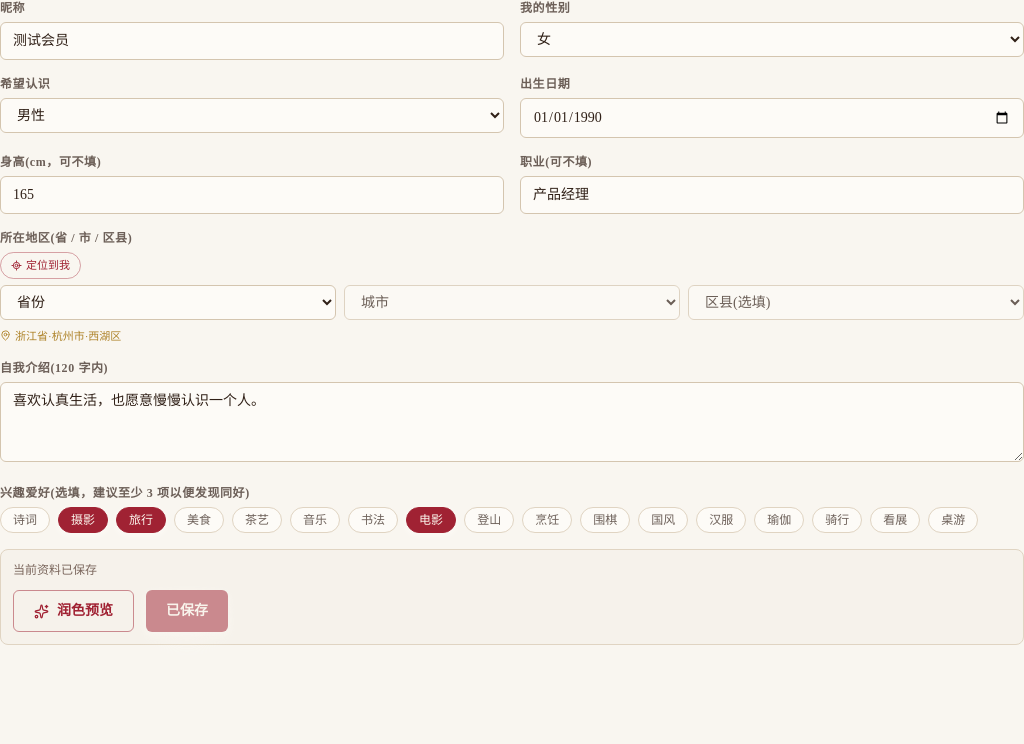
Test case: EditForm 草稿可靠性 › 润色先给预览，不直接覆盖原文；用户采用后才进入草稿
This screenshot has width=1024, height=744.
Click the button "润色预览" at (74, 611), box [13,590,134,632]
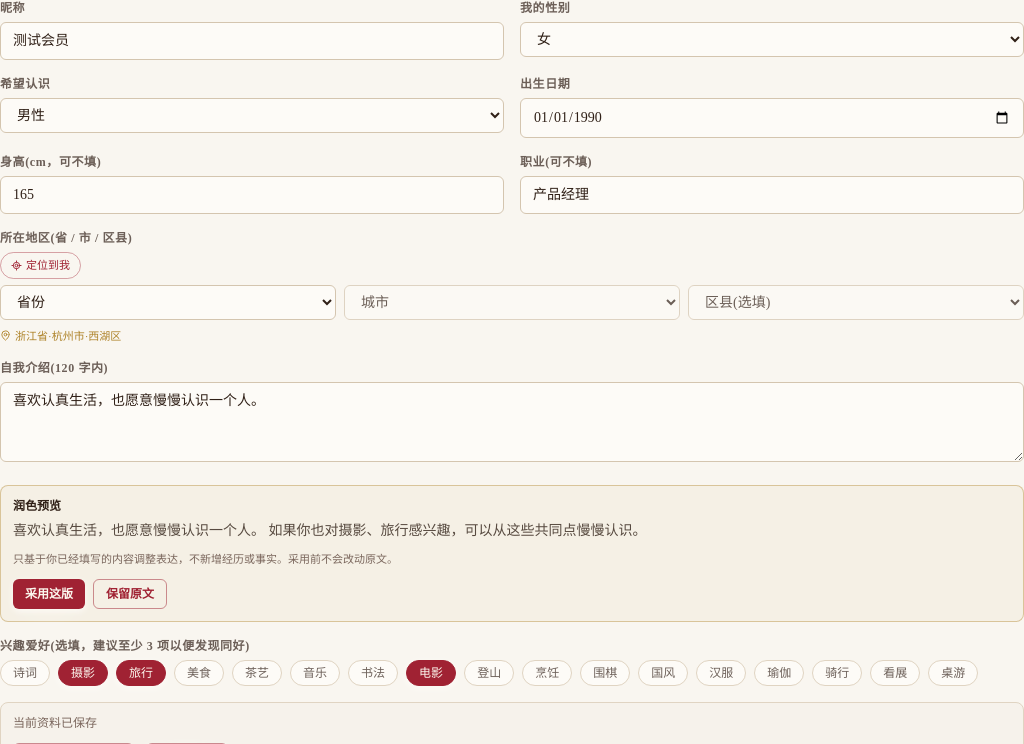
Check: the text box showing "喜欢认真生活，也愿意慢慢认识一个人。" holds "喜欢认真生活，也愿意慢慢认识一个人。", box [0,382,1023,462]
Check: the text "只基于你已经填写的内容调整表达，不新增经历或事实。采用前不会改动原文。" is shown, box [13,553,398,565]
Check: the button "采用这版" is shown
Click the button "采用这版" at (49, 594), box [13,579,85,609]
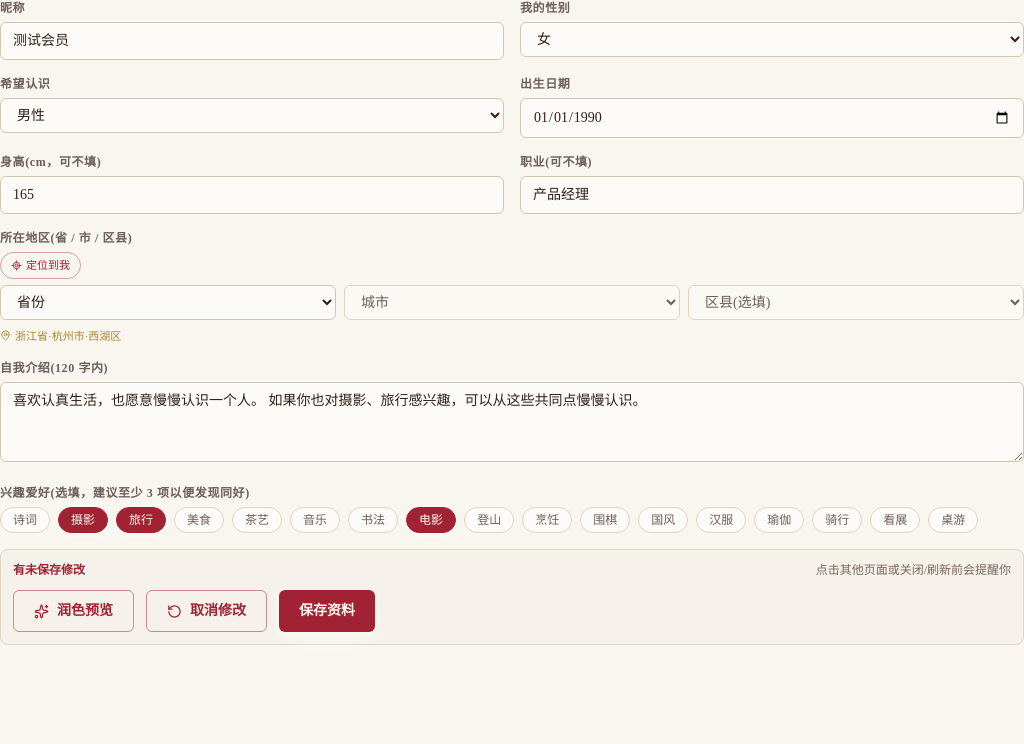
Check: the text box showing "喜欢认真生活，也愿意慢慢认识一个人。" does not hold "喜欢认真生活，也愿意慢慢认识一个人。", box [0,382,1023,462]
Check: the text "有未保存修改" is shown, box [13,562,85,578]
